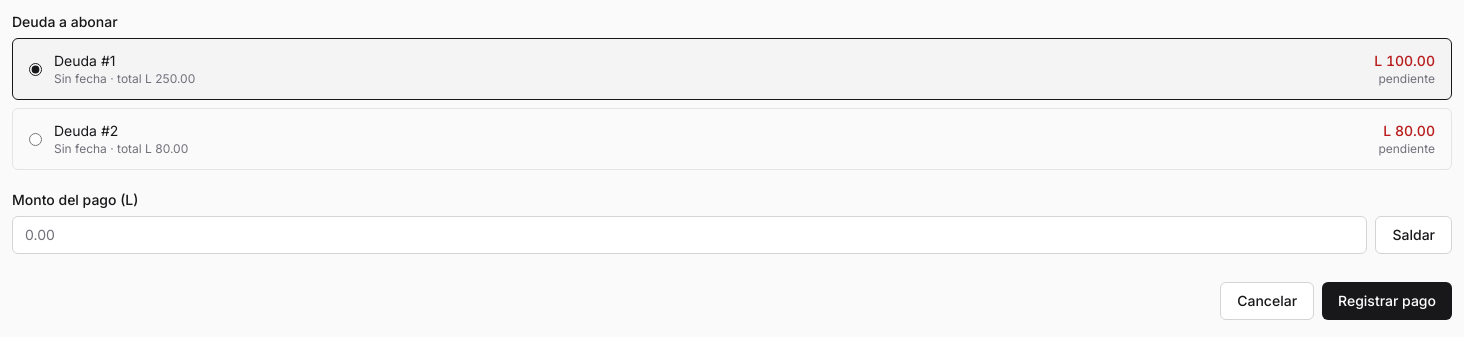
Test case: formularios › PagoForm permite saldar la deuda seleccionada
This screenshot has width=1464, height=337.
Click the radio button labelled "Deuda #2 Sin fecha · total L 80.00 L 80.00 pendiente": (36, 139) top-left (29, 132), bottom-right (42, 146)
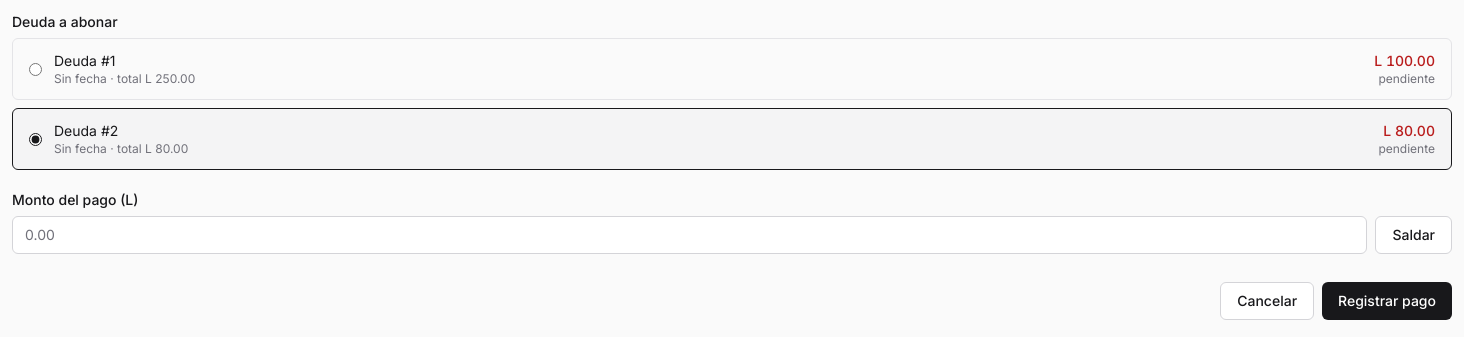
Click the button "Saldar": (1414, 235) top-left (1376, 216), bottom-right (1452, 254)
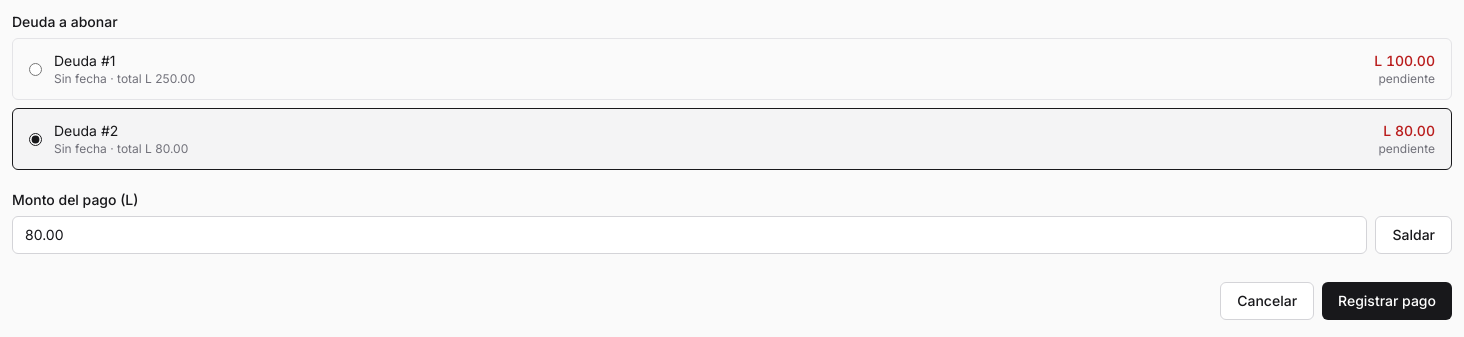
Now the number field labelled "Monto del pago (L)" holds "80", box top-left (12, 216), bottom-right (1368, 254)
